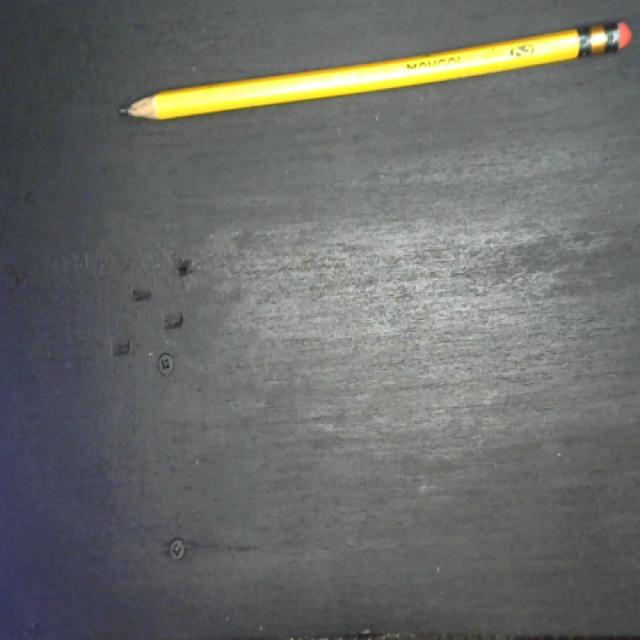biodegradable: (116, 15, 635, 128)
